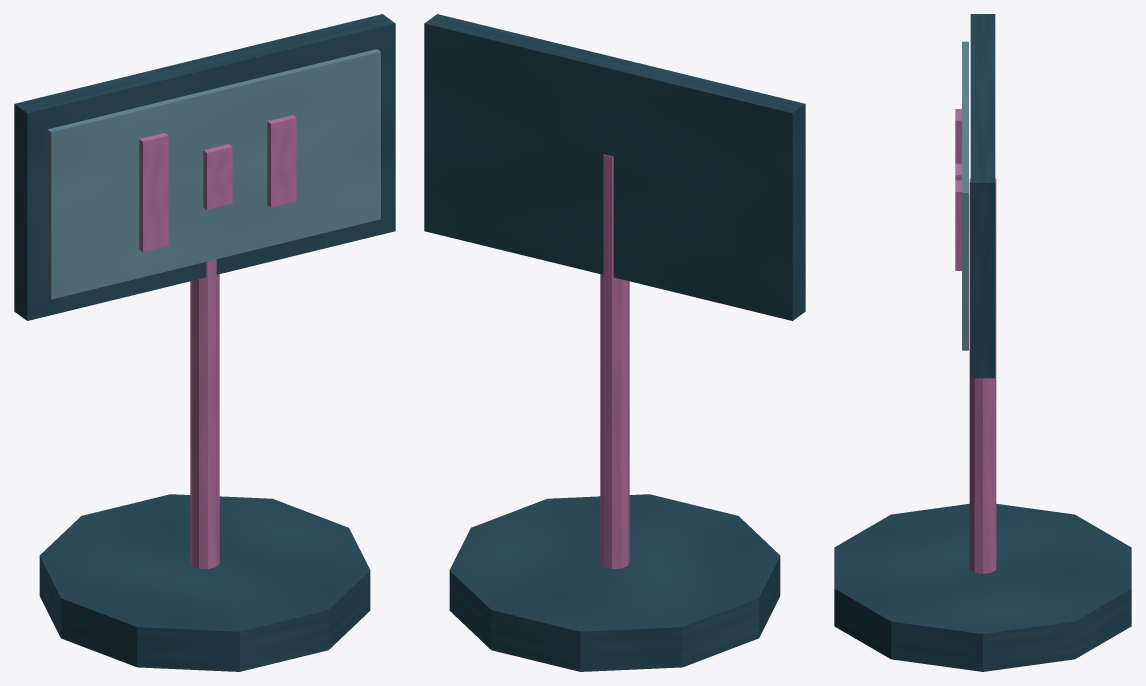
The model's file is atlas100-s062-a11.glb.
The picture shows the model from 3 angles, left to right: view 1: azimuth 30°, elevation 25°; view 2: azimuth 150°, elevation 25°; view 3: azimuth 270°, elevation 25°; orthographic projection. The views are drawn at different scales.
Parts seen in each view (by area): view 1: atlas100-s062-a11:part-003, atlas100-s062-a11:part-000, atlas100-s062-a11:part-002, atlas100-s062-a11:part-001, atlas100-s062-a11:part-004, atlas100-s062-a11:part-006, atlas100-s062-a11:part-005; view 2: atlas100-s062-a11:part-002, atlas100-s062-a11:part-000, atlas100-s062-a11:part-001; view 3: atlas100-s062-a11:part-000, atlas100-s062-a11:part-002, atlas100-s062-a11:part-001, atlas100-s062-a11:part-003, atlas100-s062-a11:part-006.
Part boxes in pixels (x1,y1,x2,y2): atlas100-s062-a11:part-003: (47, 49, 380, 299); atlas100-s062-a11:part-000: (39, 494, 370, 671); atlas100-s062-a11:part-002: (14, 14, 395, 320); atlas100-s062-a11:part-001: (190, 259, 219, 568); atlas100-s062-a11:part-004: (139, 133, 168, 252); atlas100-s062-a11:part-006: (267, 115, 296, 207); atlas100-s062-a11:part-005: (203, 144, 232, 209); atlas100-s062-a11:part-002: (424, 14, 805, 320); atlas100-s062-a11:part-000: (449, 494, 780, 671); atlas100-s062-a11:part-001: (600, 154, 629, 568); atlas100-s062-a11:part-000: (834, 503, 1131, 671); atlas100-s062-a11:part-002: (970, 14, 995, 378); atlas100-s062-a11:part-001: (969, 178, 996, 573); atlas100-s062-a11:part-003: (962, 41, 968, 350); atlas100-s062-a11:part-006: (955, 180, 961, 270).
Bounding box in the file's own units: 1.15 × 1.61 × 0.856.
3 materials, 3 textured.
